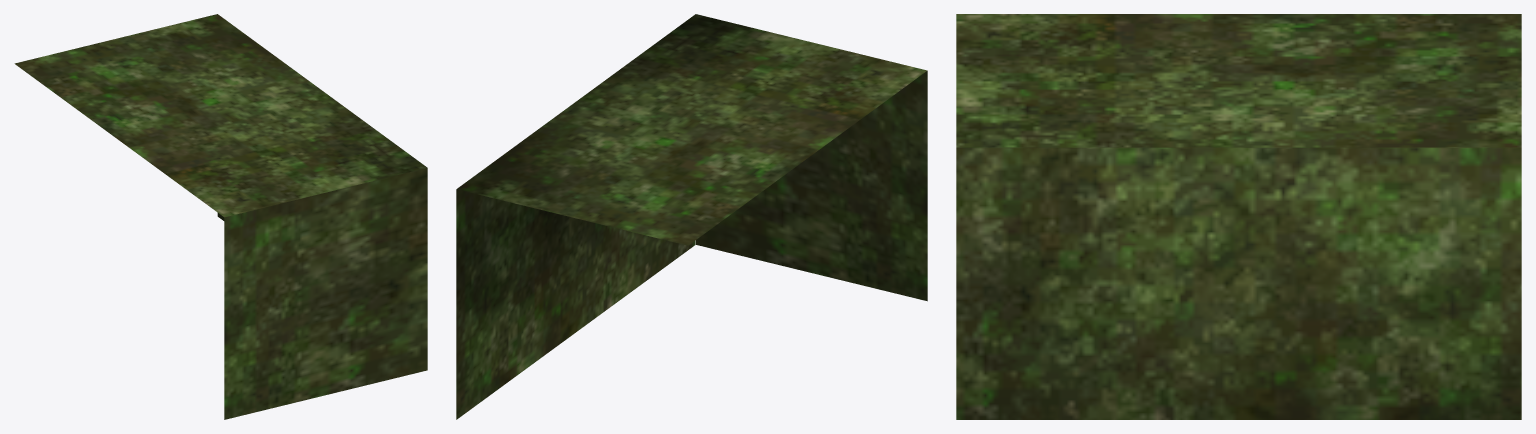
Rendered from OVERHILL_A_01_OBJECT102.fbx.
3 renders of one model, left to right at view 1: azimuth 30°, elevation 25°; view 2: azimuth 150°, elevation 25°; view 3: azimuth 270°, elevation 25°, orthographic. The views are drawn at different scales.
Parts seen in each view (by area): view 1: OVERHILL_A_01_OBJECT102; view 2: OVERHILL_A_01_OBJECT102; view 3: OVERHILL_A_01_OBJECT102.
Boxes of the visible parts, <box> form: OVERHILL_A_01_OBJECT102: <box>14,14,427,419</box>; OVERHILL_A_01_OBJECT102: <box>456,14,927,419</box>; OVERHILL_A_01_OBJECT102: <box>956,14,1521,419</box>.
Size of the model in its own units: 16852 by 16035 by 30148.
Materials: 1 (1 with a texture image).
